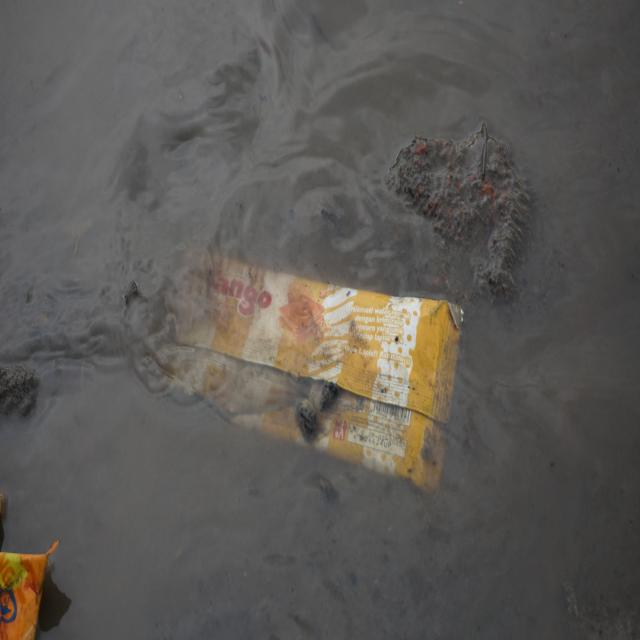Bungkus Makanan: (151, 245, 466, 500), (1, 532, 63, 640)
